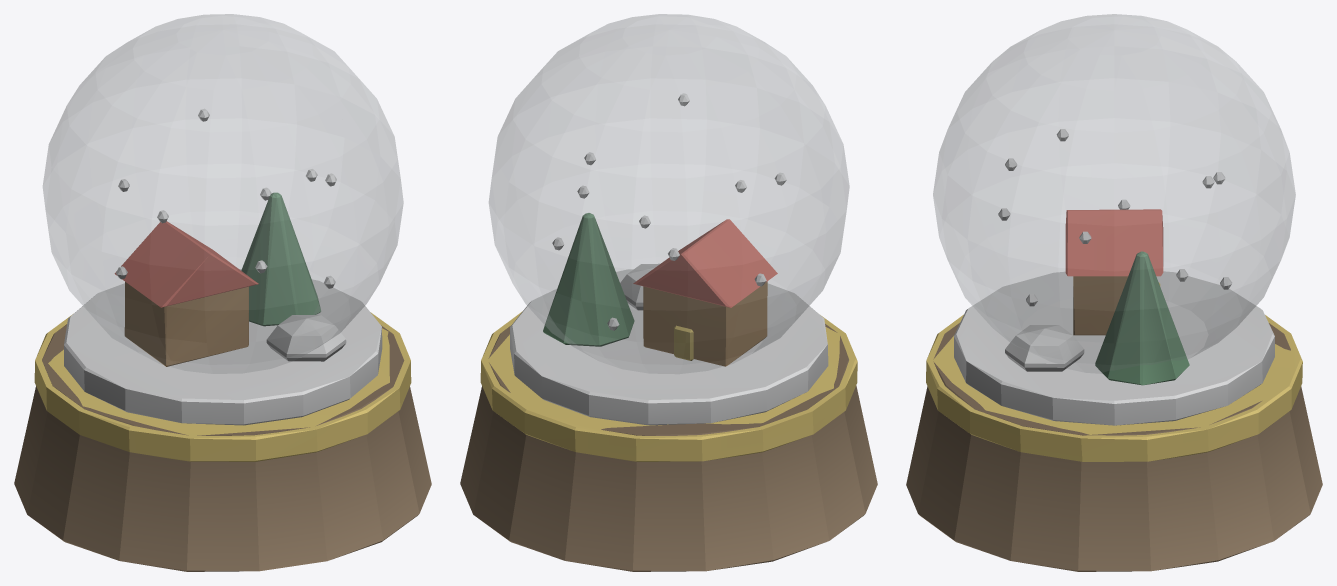
File: xmas_snow_globe_low.glb
3 views of the same model, side by side, from view 1: azimuth 30°, elevation 25°; view 2: azimuth 150°, elevation 25°; view 3: azimuth 270°, elevation 25° (orthographic).
Bounding box in the file's own units: 0.2948 × 0.36 × 0.2985.
